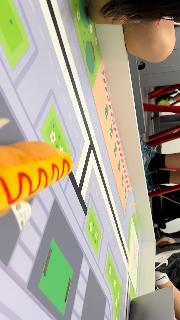hotdog: (1, 140, 74, 218)
